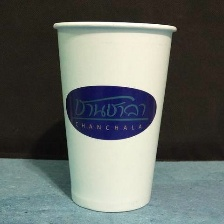paper_cup: (47, 15, 181, 218)
